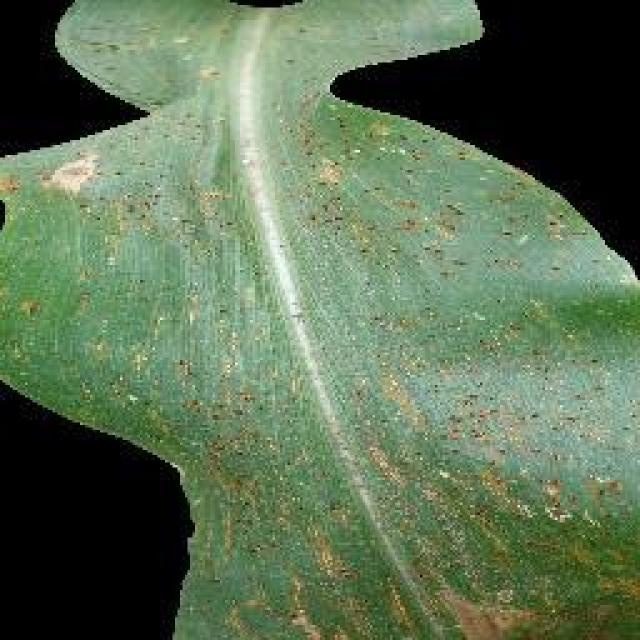Corn Common Rust: (96, 68, 612, 637)
